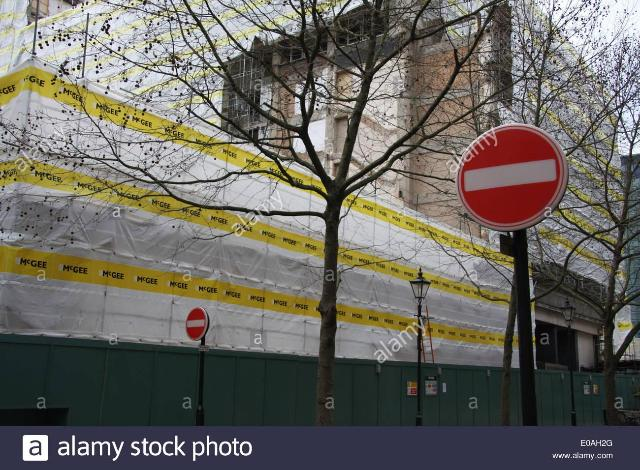B2: (456, 122, 568, 232), (185, 308, 209, 342)
